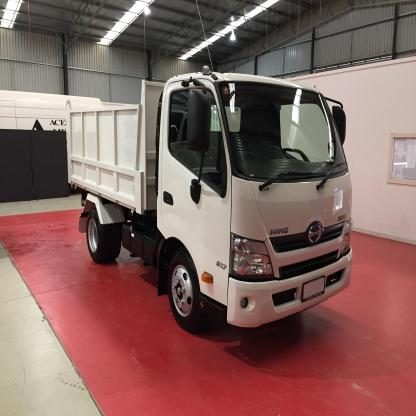dump_truck: (58, 55, 355, 347)
